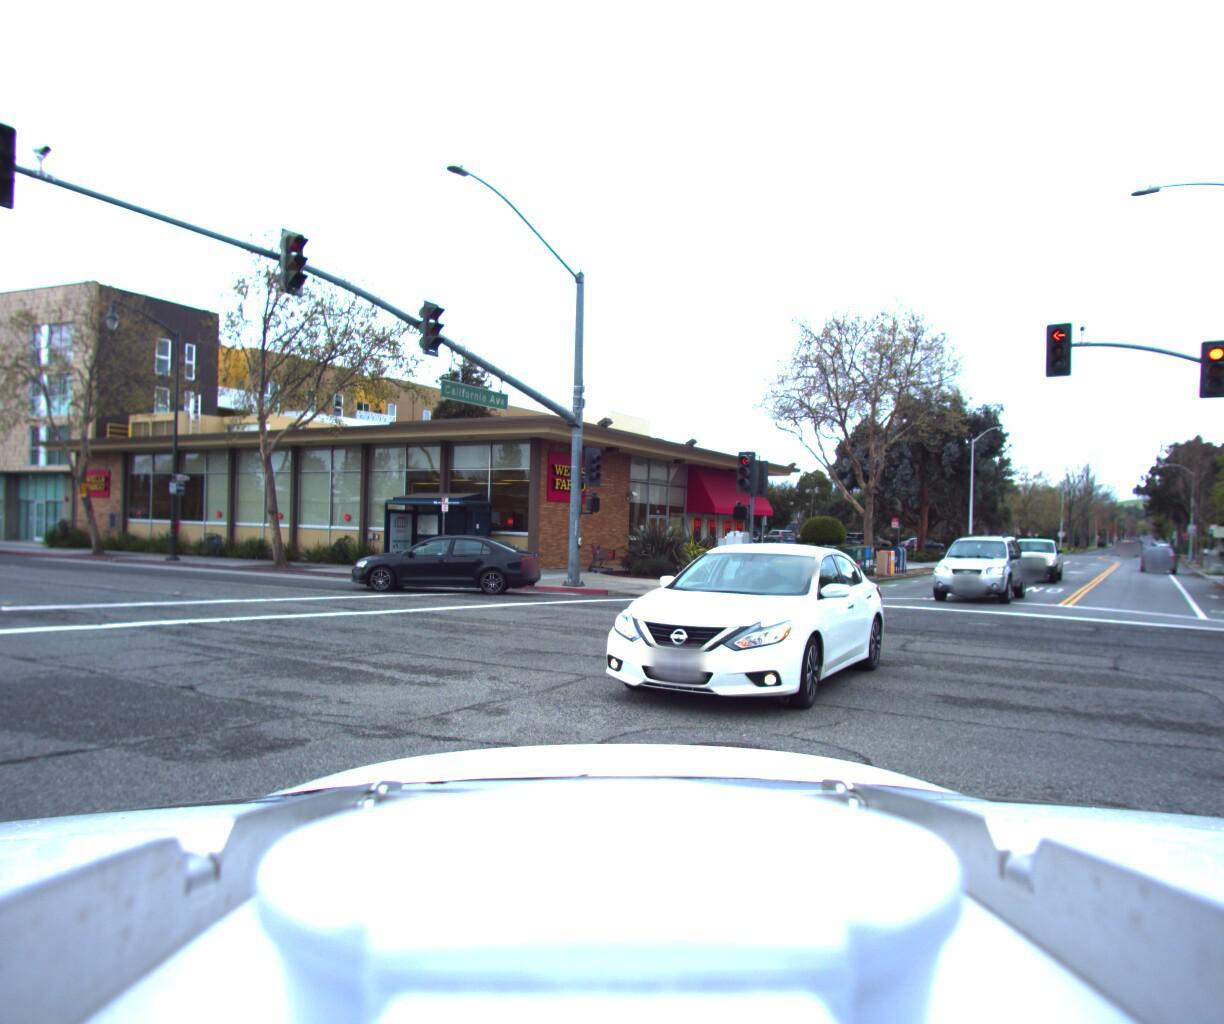car: (566, 542, 895, 738), (338, 530, 536, 603), (920, 538, 1024, 615), (990, 546, 1066, 593), (1136, 553, 1178, 586)
